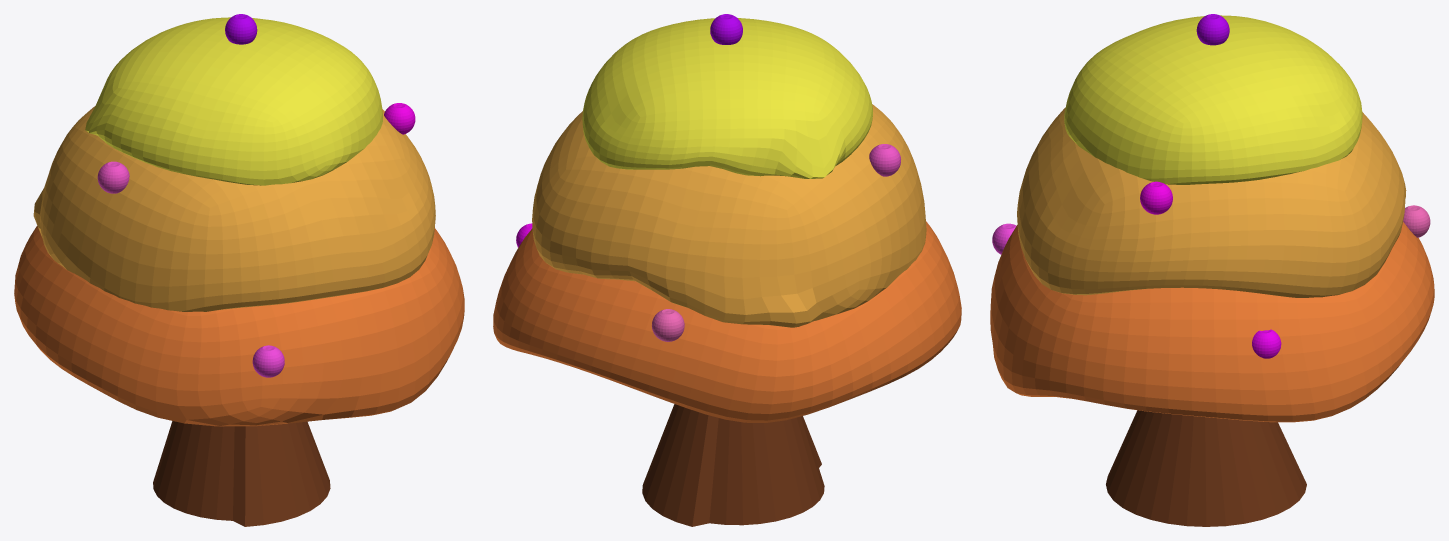
The model's file is tree3.glb.
3 views of the same model, side by side, from view 1: azimuth 30°, elevation 25°; view 2: azimuth 150°, elevation 25°; view 3: azimuth 270°, elevation 25° (orthographic). The views are drawn at different scales.
Parts seen in each view (by area): view 1: Cube.001, Cube, Cube.002, Cylinder, Sphere.005, Sphere.003, Sphere.004, Sphere.001; view 2: Cube.001, Cube, Cube.002, Cylinder, Sphere, Sphere.004, Sphere.003; view 3: Cube, Cube.001, Cube.002, Cylinder, Sphere.001, Sphere.004, Sphere.002, Sphere.
Boxes of the visible parts, x1,y1,x2,y2 form: Cube.001: [33, 106, 435, 311]; Cube: [14, 226, 464, 426]; Cube.002: [85, 17, 382, 185]; Cylinder: [153, 421, 330, 526]; Sphere.005: [252, 345, 284, 377]; Sphere.003: [97, 161, 129, 193]; Sphere.004: [225, 14, 257, 44]; Sphere.001: [384, 103, 415, 134]; Cube.001: [532, 104, 926, 327]; Cube: [493, 221, 961, 422]; Cube.002: [582, 18, 872, 178]; Cylinder: [642, 404, 824, 526]; Sphere: [652, 309, 684, 341]; Sphere.004: [710, 14, 742, 44]; Sphere.003: [869, 144, 900, 176]; Cube: [990, 222, 1434, 422]; Cube.001: [1017, 107, 1406, 297]; Cube.002: [1064, 15, 1362, 184]; Cylinder: [1106, 410, 1306, 526]; Sphere.001: [1140, 181, 1172, 214]; Sphere.004: [1196, 14, 1229, 45]; Sphere.002: [1252, 329, 1281, 358]; Sphere: [1403, 205, 1430, 237].
Bounding box in the file's own units: 10.49 × 12.09 × 10.28.
